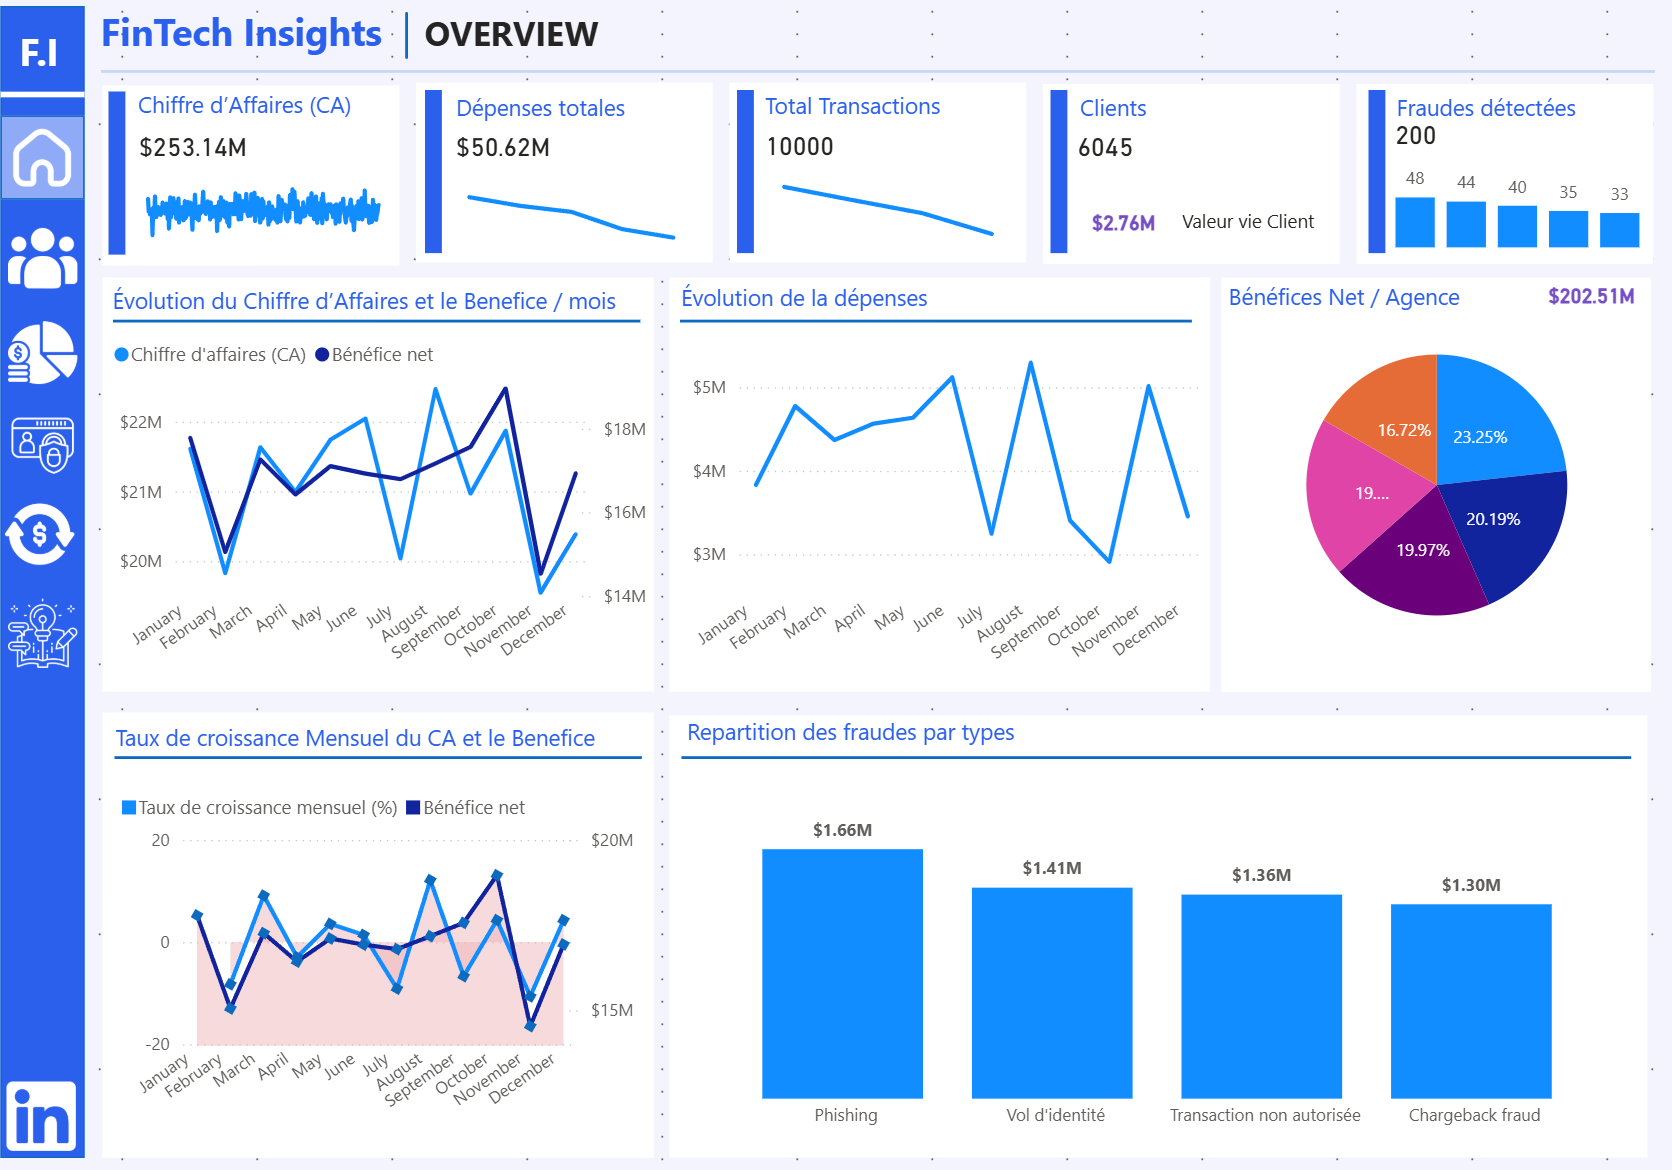

This screenshot's page, from the dashboard's own definition file:
{"tool":"powerbi","page":{"name":"Overview","canvas":[1200,850],"ordinal":0},"visuals":[{"type":"shape","box":[9.6,12.8,59.7,819.2],"z":0,"group":"g2"},{"type":"shape","box":[81.2,53.3,1105,12],"z":0,"group":"g3"},{"type":"shape","box":[305.2,67.9,211,128],"z":0,"group":"g1"},{"type":"shape","box":[82.4,205.9,392.2,294.4],"z":0},{"type":"textbox","box":[75.8,7,230,50],"z":1000,"group":"g3"},{"type":"shape","box":[82.2,69.4,211,128],"z":1000,"group":"g1"},{"type":"textbox","box":[84.3,205.9,390.4,34.1],"z":1000},{"type":"image","box":[8.6,772.3,59.7,59.7],"z":1000,"group":"g2"},{"type":"shape","box":[292.5,17,12.2,33.3],"z":2000,"group":"g3"},{"type":"shape","box":[9.6,60.8,59.7,29.9],"z":2000,"group":"g2"},{"type":"shape","box":[86.2,74.4,12,116],"z":2000,"group":"g1"},{"type":"lineChart","fields":{"Category":["Calendrier.Date.Variation.Date Hierarchy.Month"],"Y":["KPI.Chiffre d'affaires (CA)"],"Y2":["KPI.Bénéfice net"]},"box":[84.6,240.3,390,260],"z":2000},{"type":"textbox","box":[305.8,9.2,158.9,44.4],"z":3000,"group":"g3"},{"type":"card","fields":{"Values":["KPI.Chiffre d'affaires (CA)"]},"box":[99.2,98.4,94,30],"z":3000,"group":"g1"},{"type":"image","box":[9.6,162.6,59.7,59.7],"z":3000,"group":"g2"},{"type":"shape","box":[485.8,205.9,384.4,294.4],"z":3000},{"type":"lineChart","fields":{"Y":["KPI.Chiffre d'affaires (CA)"],"Category":["Calendrier.Date.Variation.Date Hierarchy.Year","Calendrier.Date.Variation.Date Hierarchy.Quarter","Calendrier.Date.Variation.Date Hierarchy.Month","Calendrier.Date.Variation.Date Hierarchy.Day"]},"box":[99.2,113.4,194,77],"z":4000,"group":"g1"},{"type":"textbox","box":[488.2,203.3,191,34],"z":4000},{"type":"image","box":[9.6,229.3,59.7,59.7],"z":4000,"group":"g2"},{"type":"textbox","box":[102.3,66.5,164.6,32.7],"z":5000,"group":"g1"},{"type":"lineChart","fields":{"Category":["Calendrier.Date.Variation.Date Hierarchy.Month"],"Y":["KPI.Depenses totales"]},"box":[485.8,240.3,384.4,260],"z":5000},{"type":"image","box":[9.6,295.5,59.7,59.7],"z":5000,"group":"g2"},{"type":"shape","box":[311.2,73.4,12,116],"z":6000,"group":"g1"},{"type":"shape","box":[89.2,222.3,375,30],"z":6000},{"type":"image","box":[9.6,428.8,59.7,59.7],"z":6000,"group":"g2"},{"type":"card","fields":{"Values":["KPI.Depenses totales"]},"box":[323.2,98.4,87,30],"z":7000,"group":"g1"},{"type":"shape","box":[493.2,222.3,364,30],"z":7000},{"type":"shape","box":[9.6,90.7,59.7,59.7],"z":8000,"group":"g2"},{"type":"lineChart","fields":{"Category":["depenses.Departement"],"Y":["KPI.Depenses totales"]},"box":[323.2,121.4,184,64],"z":8000,"group":"g1"},{"type":"pieChart","fields":{"Category":["agences.Agence"],"Y":["KPI.Bénéfice net"]},"box":[878,205.9,305.6,294.4],"z":8000},{"type":"textbox","box":[328.1,68.6,141.4,32.7],"z":9000,"group":"g1"},{"type":"image","box":[8.6,90.7,60.8,59.7],"z":9000,"group":"g2"},{"type":"shape","box":[82.4,514.8,392.2,316.7],"z":9000},{"type":"textbox","box":[18.2,21.3,50.1,48],"z":10000,"group":"g2"},{"type":"shape","box":[528.2,67.4,211,128],"z":10000,"group":"g1"},{"type":"textbox","box":[878.2,202.3,182,34],"z":10000},{"type":"image","box":[7.5,358.4,59.7,59.7],"z":10500,"group":"g2"},{"type":"shape","box":[533.2,72.4,12,116],"z":11000,"group":"g1"},{"type":"card","fields":{"Values":["KPI.Bénéfice net"]},"box":[1101.2,204.3,80,30],"z":11000},{"type":"card","fields":{"Values":["KPI.Nombre total de transactions"]},"box":[545.2,97.4,65,30],"z":12000,"group":"g1"},{"type":"lineChart","fields":{"Y":["KPI.Taux de croissance mensuel (%)"],"Category":["Calendrier.Date.Variation.Date Hierarchy.Month"],"Y2":["KPI.Bénéfice net"]},"box":[89.1,562.6,375.6,256.7],"z":12000},{"type":"lineChart","fields":{"Y":["KPI.Nombre total de transactions"],"Category":["transactions.Service"]},"box":[542.2,120.4,197,64],"z":13000,"group":"g1"},{"type":"textbox","box":[86.4,516.3,379.7,34.1],"z":13000},{"type":"textbox","box":[548.6,67.6,138.2,33.8],"z":14000,"group":"g1"},{"type":"shape","box":[91.2,532.8,375,30],"z":14000},{"type":"shape","box":[751.2,68.4,211,128],"z":15000,"group":"g1"},{"type":"shape","box":[485.8,516.9,695.6,314.4],"z":15000},{"type":"shape","box":[756.2,73.4,12,116],"z":16000,"group":"g1"},{"type":"columnChart","fields":{"Category":["frauds.TypeFraude"],"Y":["KPI.Montant total des fraudes"]},"box":[486.9,572.4,695.6,246.7],"z":16000},{"type":"card","fields":{"Values":["KPI.Nombre total de clients actifs"]},"box":[769.2,98.4,52,30],"z":17000,"group":"g1"},{"type":"textbox","box":[492.4,512.4,272.2,34.4],"z":17000},{"type":"textbox","box":[772.2,68.6,141.4,32.7],"z":18000,"group":"g1"},{"type":"shape","box":[493.5,532.4,675.6,30],"z":18000},{"type":"group","id":"g1","title":"KPIs","box":[82.2,66.5,1103,130.9],"z":19000},{"type":"shape","box":[974.2,68.9,211,128],"z":19000,"group":"g1"},{"type":"group","id":"g2","title":"Navigation","box":[7.5,12.8,61.9,819.2],"z":20000},{"type":"shape","box":[982.2,73.4,12,116],"z":20000,"group":"g1"},{"type":"group","id":"g3","title":"Header","box":[75.8,7,1110.4,58.3],"z":21000},{"type":"card","fields":{"Values":["KPI.Nombre total de fraudes détectées"]},"box":[990.6,89.7,49.6,30.6],"z":21000,"group":"g1"},{"type":"textbox","box":[996.9,68.6,155.1,32.7],"z":22000,"group":"g1"},{"type":"card","fields":{"Values":["KPI.Valeur vie client (CLV)"]},"box":[768.2,152.4,80,30],"z":23000,"group":"g1"},{"type":"textbox","box":[845.2,150.4,115,29],"z":24000,"group":"g1"},{"type":"columnChart","fields":{"Category":["frauds.Agence"],"Y":["KPI.Nombre total de fraudes détectées"]},"box":[995.9,116.1,184.6,74.9],"z":25000,"group":"g1"}]}

Visuals, with their boxes in screenshot pixels (x1, y1, x2, y2), scaled from the page's 1200x850 canvas onto the 1672x1170 screenshot:
shape: box=[13, 18, 97, 1145]
shape: box=[113, 73, 1653, 90]
shape: box=[425, 93, 719, 270]
shape: box=[115, 283, 661, 689]
textbox: box=[106, 10, 426, 78]
shape: box=[115, 96, 409, 272]
textbox: box=[117, 283, 661, 330]
image: box=[12, 1063, 95, 1145]
shape: box=[408, 23, 425, 69]
shape: box=[13, 84, 97, 125]
shape: box=[120, 102, 137, 262]
lineChart - Calendrier.Date.Variation.Date Hierarchy.Month x KPI.Chiffre d'affaires (CA): box=[118, 331, 661, 689]
textbox: box=[426, 13, 647, 74]
card - KPI.Chiffre d'affaires (CA): box=[138, 135, 269, 177]
image: box=[13, 224, 97, 306]
shape: box=[677, 283, 1212, 689]
lineChart - KPI.Chiffre d'affaires (CA) x Calendrier.Date.Variation.Date Hierarchy.Year: box=[138, 156, 409, 262]
textbox: box=[680, 280, 946, 327]
image: box=[13, 316, 97, 398]
textbox: box=[143, 92, 372, 137]
lineChart - Calendrier.Date.Variation.Date Hierarchy.Month x KPI.Depenses totales: box=[677, 331, 1212, 689]
image: box=[13, 407, 97, 489]
shape: box=[434, 101, 450, 261]
shape: box=[124, 306, 647, 347]
image: box=[13, 590, 97, 672]
card - KPI.Depenses totales: box=[450, 135, 572, 177]
shape: box=[687, 306, 1194, 347]
shape: box=[13, 125, 97, 207]
lineChart - depenses.Departement x KPI.Depenses totales: box=[450, 167, 707, 255]
pieChart - agences.Agence x KPI.Bénéfice net: box=[1223, 283, 1649, 689]
textbox: box=[457, 94, 654, 139]
image: box=[12, 125, 97, 207]
shape: box=[115, 709, 661, 1145]
textbox: box=[25, 29, 95, 95]
shape: box=[736, 93, 1030, 269]
textbox: box=[1224, 278, 1477, 325]
image: box=[10, 493, 94, 576]
shape: box=[743, 100, 760, 259]
card - KPI.Bénéfice net: box=[1534, 281, 1646, 323]
card - KPI.Nombre total de transactions: box=[760, 134, 850, 175]
lineChart - KPI.Taux de croissance mensuel (%) x Calendrier.Date.Variation.Date Hierarchy.Month: box=[124, 774, 647, 1128]
lineChart - KPI.Nombre total de transactions x transactions.Service: box=[755, 166, 1030, 254]
textbox: box=[120, 711, 649, 758]
textbox: box=[764, 93, 957, 140]
shape: box=[127, 733, 650, 775]
shape: box=[1047, 94, 1341, 270]
shape: box=[677, 711, 1646, 1144]
shape: box=[1054, 101, 1070, 261]
columnChart - frauds.TypeFraude x KPI.Montant total des fraudes: box=[678, 788, 1648, 1127]
card - KPI.Nombre total de clients actifs: box=[1072, 135, 1144, 177]
textbox: box=[686, 705, 1065, 753]
textbox: box=[1076, 94, 1273, 139]
shape: box=[688, 733, 1629, 774]
"KPIs" group: box=[115, 92, 1651, 272]
shape: box=[1357, 95, 1651, 271]
"Navigation" group: box=[10, 18, 97, 1145]
shape: box=[1369, 101, 1385, 261]
"Header" group: box=[106, 10, 1653, 90]
card - KPI.Nombre total de fraudes détectées: box=[1380, 123, 1449, 166]
textbox: box=[1389, 94, 1605, 139]
card - KPI.Valeur vie client (CLV): box=[1070, 210, 1182, 251]
textbox: box=[1178, 207, 1338, 247]
columnChart - frauds.Agence x KPI.Nombre total de fraudes détectées: box=[1388, 160, 1645, 263]
